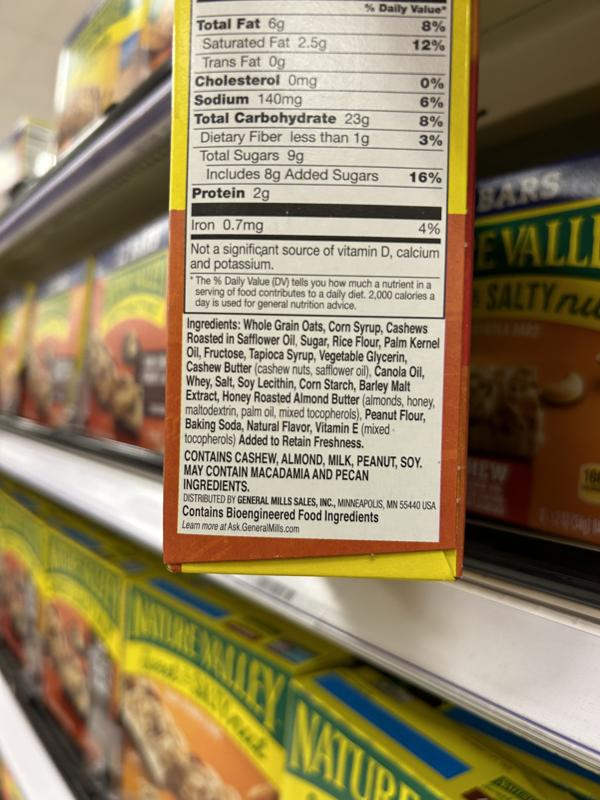ingredients: (182, 317, 440, 450)
